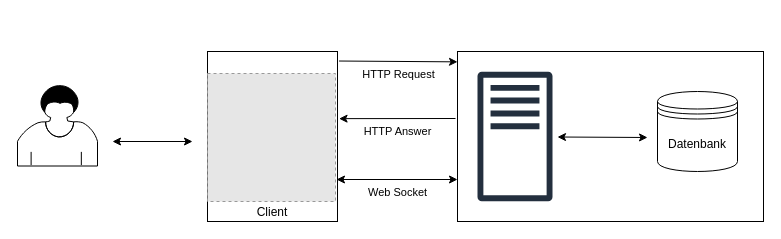
Image size: 781x239. Some labels were removed from this diagram. Grey dashed boxes stand in for pictures. The shapes that lost their labels are listed below. From the top down, each one's box as (x1, y1, x2, y2) in pixels, then its label:
(16, 84, 98, 166): Benutzer
(456, 50, 764, 222): Server
